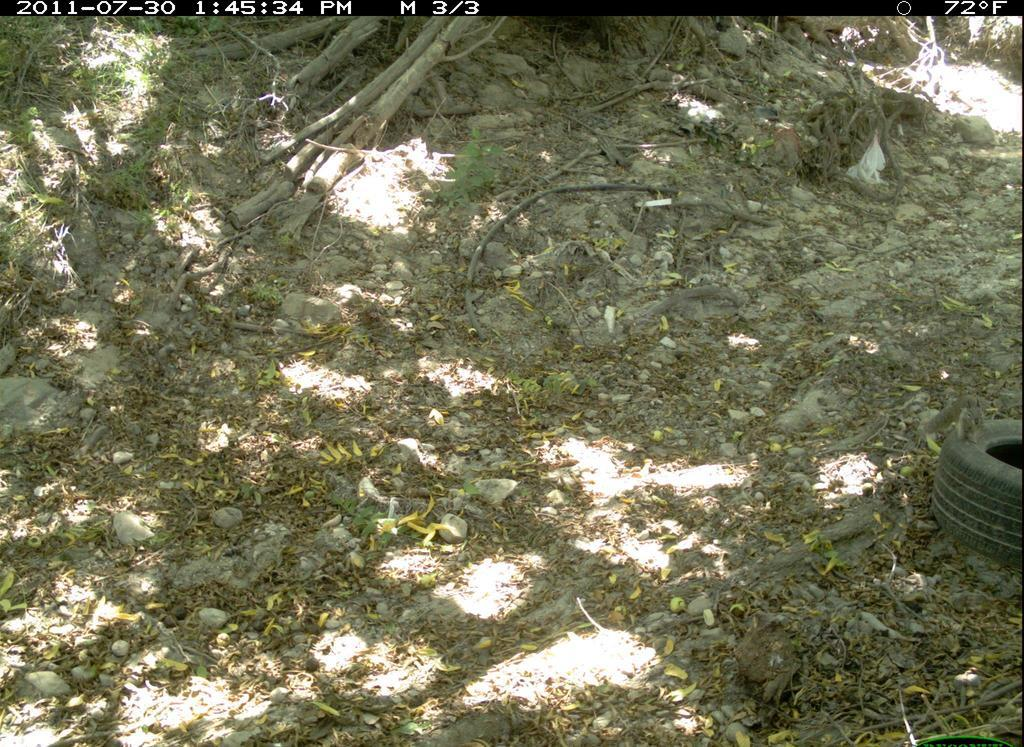squirrel: (904, 377, 1005, 470)
